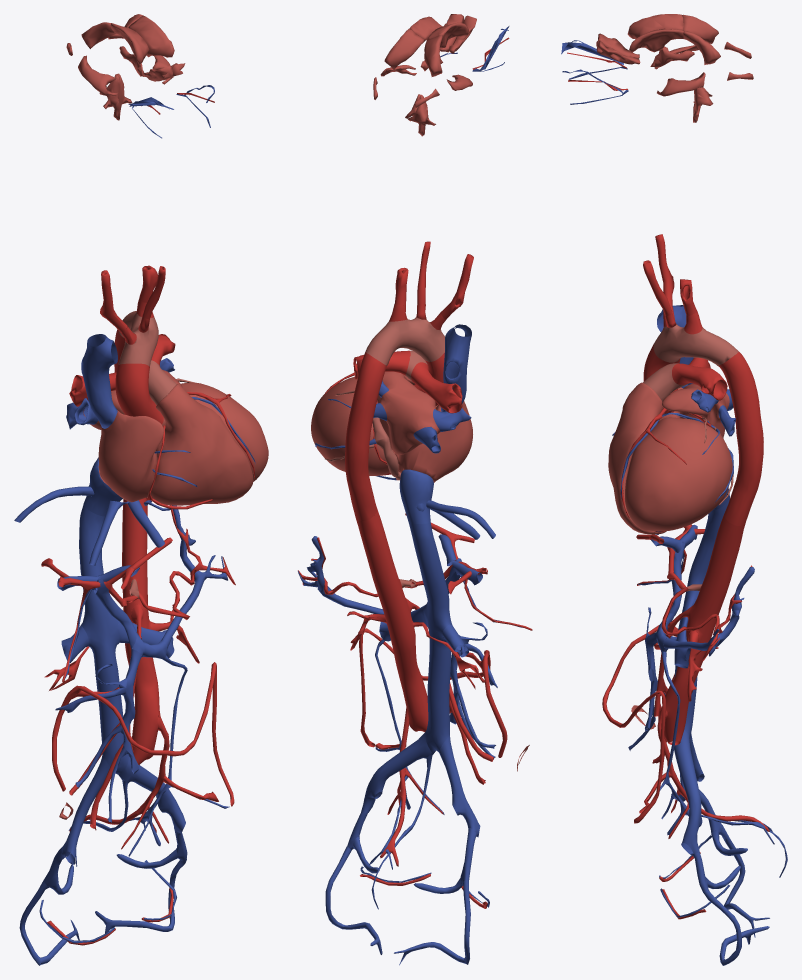
File: adult_female.cardiovascular.LOD4.glb
3 views of the same model, side by side, from view 1: azimuth 30°, elevation 25°; view 2: azimuth 150°, elevation 25°; view 3: azimuth 270°, elevation 25° (orthographic). The views are drawn at different scales.
Parts seen in each view (by area): view 1: ADULT.FEMALE.CARDIOVASCULAR.RIGHT_VENTRICLE, ADULT.FEMALE.CARDIOVASCULAR.INFERIOR_VENA_CAVA_B, ADULT.FEMALE.CARDIOVASCULAR.DESCENDING_AORTA_B, ADULT.FEMALE.CARDIOVASCULAR.RIGHT_CARDIAC_ATRIUM, ADULT.FEMALE.CARDIOVASCULAR.SUPERIOR_VENA_CAVA, ADULT.FEMALE.CARDIOVASCULAR.LEFT_VENTRICLE, ADULT.FEMALE.CARDIOVASCULAR.MARGINAL_ARTERY_OF_DRUMMOND, ADULT.FEMALE.CARDIOVASCULAR.ASCENDING_AORTA, ADULT.FEMALE.CARDIOVASCULAR.SPLENIC_VEIN, ADULT.FEMALE.CARDIOVASCULAR.ANTERIOR_HORN_OF_LATERAL_VENTRIC (×2), ADULT.FEMALE.CARDIOVASCULAR.AORTIC_ARCH, ADULT.FEMALE.CARDIOVASCULAR.COMMON_ILIAC_VEIN.L (+15 smaller); view 2: ADULT.FEMALE.CARDIOVASCULAR.DESCENDING_AORTA_B, ADULT.FEMALE.CARDIOVASCULAR.INFERIOR_VENA_CAVA_B, ADULT.FEMALE.CARDIOVASCULAR.DESCENDING_AORTA_A, ADULT.FEMALE.CARDIOVASCULAR.LEFT_CARDIAC_ATRIUM, ADULT.FEMALE.CARDIOVASCULAR.LEFT_VENTRICLE, ADULT.FEMALE.CARDIOVASCULAR.RIGHT_CARDIAC_ATRIUM, ADULT.FEMALE.CARDIOVASCULAR.AORTIC_ARCH, ADULT.FEMALE.CARDIOVASCULAR.INFERIOR_VENA_CAVA_A, ADULT.FEMALE.CARDIOVASCULAR.COMMON_ILIAC_VEIN.L, ADULT.FEMALE.CARDIOVASCULAR.SUPERIOR_VENA_CAVA, ADULT.FEMALE.CARDIOVASCULAR.MARGINAL_ARTERY_OF_DRUMMOND, ADULT.FEMALE.CARDIOVASCULAR.PULMONARY_ARTERY.R (+11 smaller); view 3: ADULT.FEMALE.CARDIOVASCULAR.LEFT_VENTRICLE, ADULT.FEMALE.CARDIOVASCULAR.DESCENDING_AORTA_B, ADULT.FEMALE.CARDIOVASCULAR.DESCENDING_AORTA_A, ADULT.FEMALE.CARDIOVASCULAR.RIGHT_VENTRICLE, ADULT.FEMALE.CARDIOVASCULAR.AORTIC_ARCH, ADULT.FEMALE.CARDIOVASCULAR.INFERIOR_VENA_CAVA_B, ADULT.FEMALE.CARDIOVASCULAR.COMMON_ILIAC_VEIN.L, ADULT.FEMALE.CARDIOVASCULAR.ANTERIOR_HORN_OF_LATERAL_VENTRIC (×2), ADULT.FEMALE.CARDIOVASCULAR.MARGINAL_ARTERY_OF_DRUMMOND, ADULT.FEMALE.CARDIOVASCULAR.SPLENIC_VEIN, ADULT.FEMALE.CARDIOVASCULAR.LEFT_CARDIAC_ATRIUM, ADULT.FEMALE.CARDIOVASCULAR.PULMONARY_ARTERY.L (+13 smaller).
Part boxes in pixels (x1,y1,x2,y2): ADULT.FEMALE.CARDIOVASCULAR.RIGHT_VENTRICLE: (147,384,253,505); ADULT.FEMALE.CARDIOVASCULAR.INFERIOR_VENA_CAVA_B: (79,504,128,774); ADULT.FEMALE.CARDIOVASCULAR.DESCENDING_AORTA_B: (122,498,160,764); ADULT.FEMALE.CARDIOVASCULAR.RIGHT_CARDIAC_ATRIUM: (98,410,164,502); ADULT.FEMALE.CARDIOVASCULAR.SUPERIOR_VENA_CAVA: (81,334,117,428); ADULT.FEMALE.CARDIOVASCULAR.LEFT_VENTRICLE: (181,382,268,481); ADULT.FEMALE.CARDIOVASCULAR.MARGINAL_ARTERY_OF_DRUMMOND: (52,662,234,806); ADULT.FEMALE.CARDIOVASCULAR.ASCENDING_AORTA: (115,363,163,424); ADULT.FEMALE.CARDIOVASCULAR.SPLENIC_VEIN: (132,505,227,659); ADULT.FEMALE.CARDIOVASCULAR.ANTERIOR_HORN_OF_LATERAL_VENTRIC (×2): (110,15,174,64); ADULT.FEMALE.CARDIOVASCULAR.AORTIC_ARCH: (118,311,158,366); ADULT.FEMALE.CARDIOVASCULAR.COMMON_ILIAC_VEIN.L: (118,757,185,833); ADULT.FEMALE.CARDIOVASCULAR.DESCENDING_AORTA_B: (356,510,428,732); ADULT.FEMALE.CARDIOVASCULAR.INFERIOR_VENA_CAVA_B: (409,522,452,752); ADULT.FEMALE.CARDIOVASCULAR.DESCENDING_AORTA_A: (345,352,386,520); ADULT.FEMALE.CARDIOVASCULAR.LEFT_CARDIAC_ATRIUM: (377,371,440,454); ADULT.FEMALE.CARDIOVASCULAR.LEFT_VENTRICLE: (311,377,394,475); ADULT.FEMALE.CARDIOVASCULAR.RIGHT_CARDIAC_ATRIUM: (395,401,472,482); ADULT.FEMALE.CARDIOVASCULAR.AORTIC_ARCH: (365,317,444,365); ADULT.FEMALE.CARDIOVASCULAR.INFERIOR_VENA_CAVA_A: (399,469,433,524); ADULT.FEMALE.CARDIOVASCULAR.COMMON_ILIAC_VEIN.L: (361,731,431,813); ADULT.FEMALE.CARDIOVASCULAR.SUPERIOR_VENA_CAVA: (440,324,471,412); ADULT.FEMALE.CARDIOVASCULAR.MARGINAL_ARTERY_OF_DRUMMOND: (359,628,507,757); ADULT.FEMALE.CARDIOVASCULAR.PULMONARY_ARTERY.R: (411,362,462,413); ADULT.FEMALE.CARDIOVASCULAR.LEFT_VENTRICLE: (625,417,732,531); ADULT.FEMALE.CARDIOVASCULAR.DESCENDING_AORTA_B: (664,514,745,745); ADULT.FEMALE.CARDIOVASCULAR.DESCENDING_AORTA_A: (718,352,763,525); ADULT.FEMALE.CARDIOVASCULAR.RIGHT_VENTRICLE: (608,382,666,534); ADULT.FEMALE.CARDIOVASCULAR.AORTIC_ARCH: (653,324,738,365); ADULT.FEMALE.CARDIOVASCULAR.INFERIOR_VENA_CAVA_B: (674,496,729,738); ADULT.FEMALE.CARDIOVASCULAR.COMMON_ILIAC_VEIN.L: (674,731,702,853); ADULT.FEMALE.CARDIOVASCULAR.ANTERIOR_HORN_OF_LATERAL_VENTRIC (×2): (627,14,684,52); ADULT.FEMALE.CARDIOVASCULAR.MARGINAL_ARTERY_OF_DRUMMOND: (602,625,678,823); ADULT.FEMALE.CARDIOVASCULAR.SPLENIC_VEIN: (656,567,754,656); ADULT.FEMALE.CARDIOVASCULAR.LEFT_CARDIAC_ATRIUM: (662,384,729,437); ADULT.FEMALE.CARDIOVASCULAR.PULMONARY_ARTERY.L: (672,363,727,400).
Size of the model in its own units: 0.1971 by 0.8286 by 0.1848.
